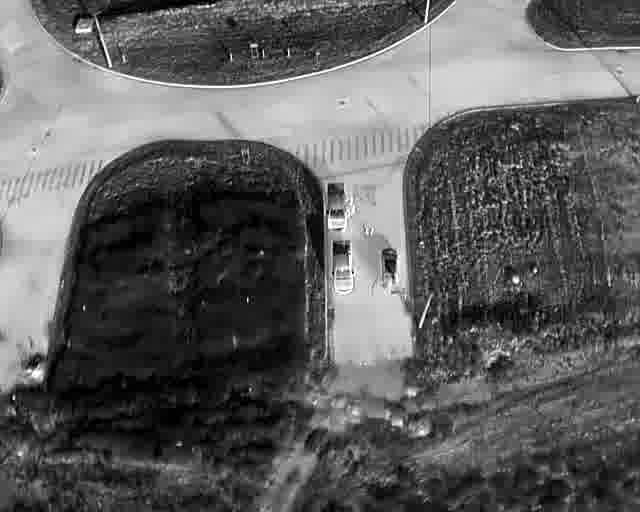car: (331, 239, 353, 295), (324, 182, 346, 230), (380, 247, 398, 287)
person: (362, 223, 369, 237), (367, 282, 374, 295), (369, 224, 376, 237), (349, 203, 356, 216), (383, 284, 389, 297), (348, 195, 354, 208), (402, 289, 408, 302)
